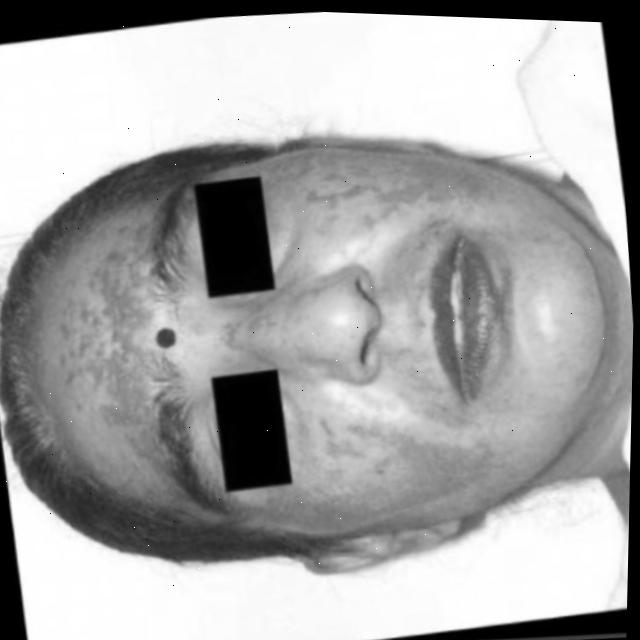Melasma: (47, 247, 177, 443), (327, 424, 448, 549), (291, 161, 440, 237)
